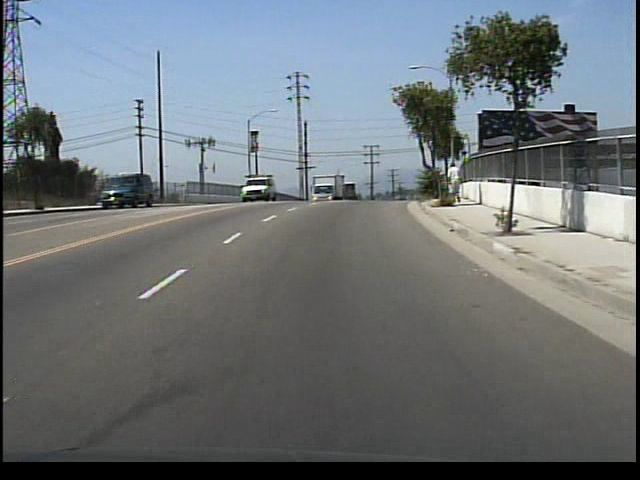person: (444, 160, 465, 206)
